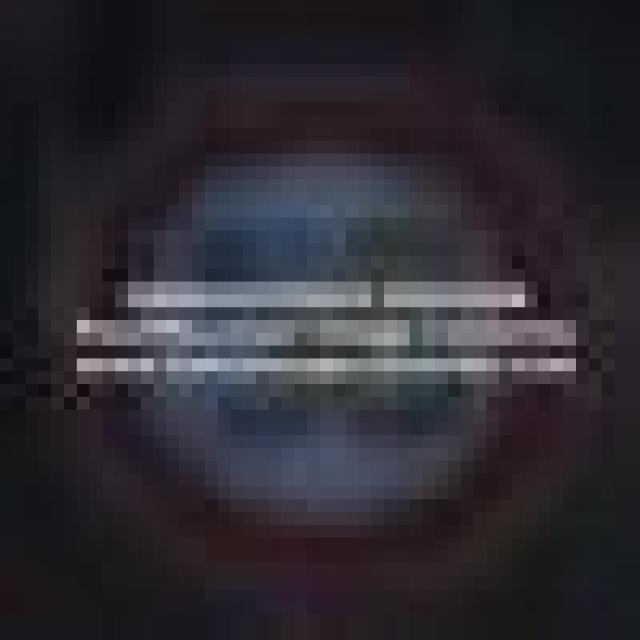speed_limit_30: (51, 90, 576, 550)
